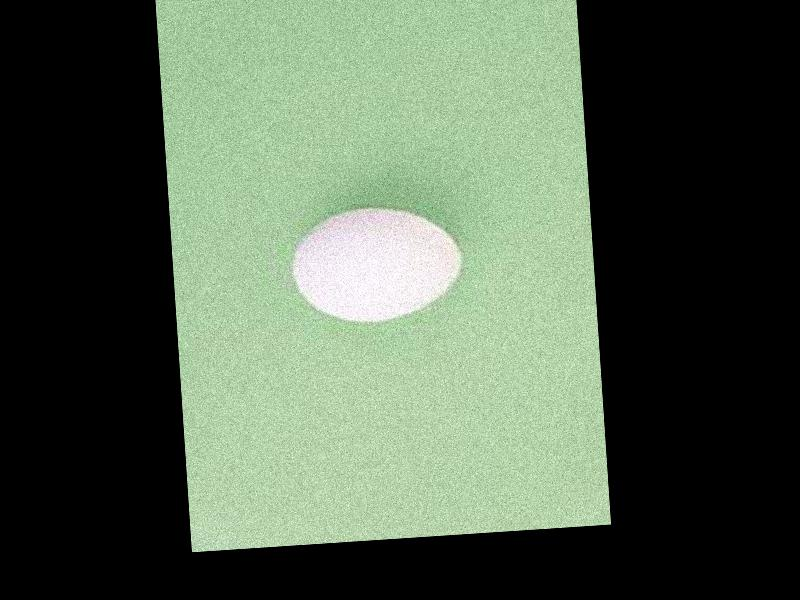Eggs: (287, 200, 465, 326)
